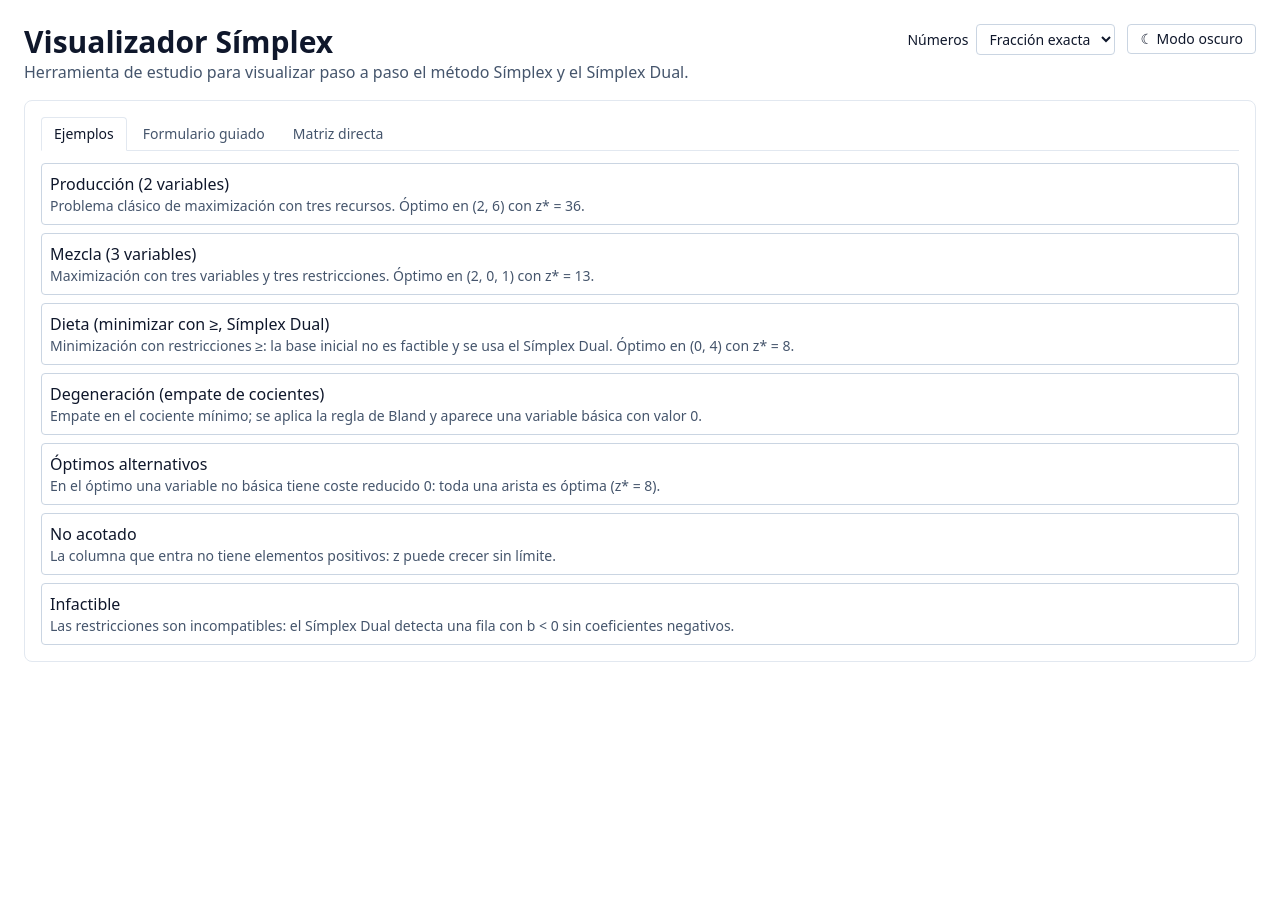
it: App › el ejemplo con ≥ usa el Símplex Dual y muestra los cocientes por columna
The image size is (1280, 900).
Click the button "Dieta" at (640, 334), box [41, 303, 1239, 365]
(page scrolled)
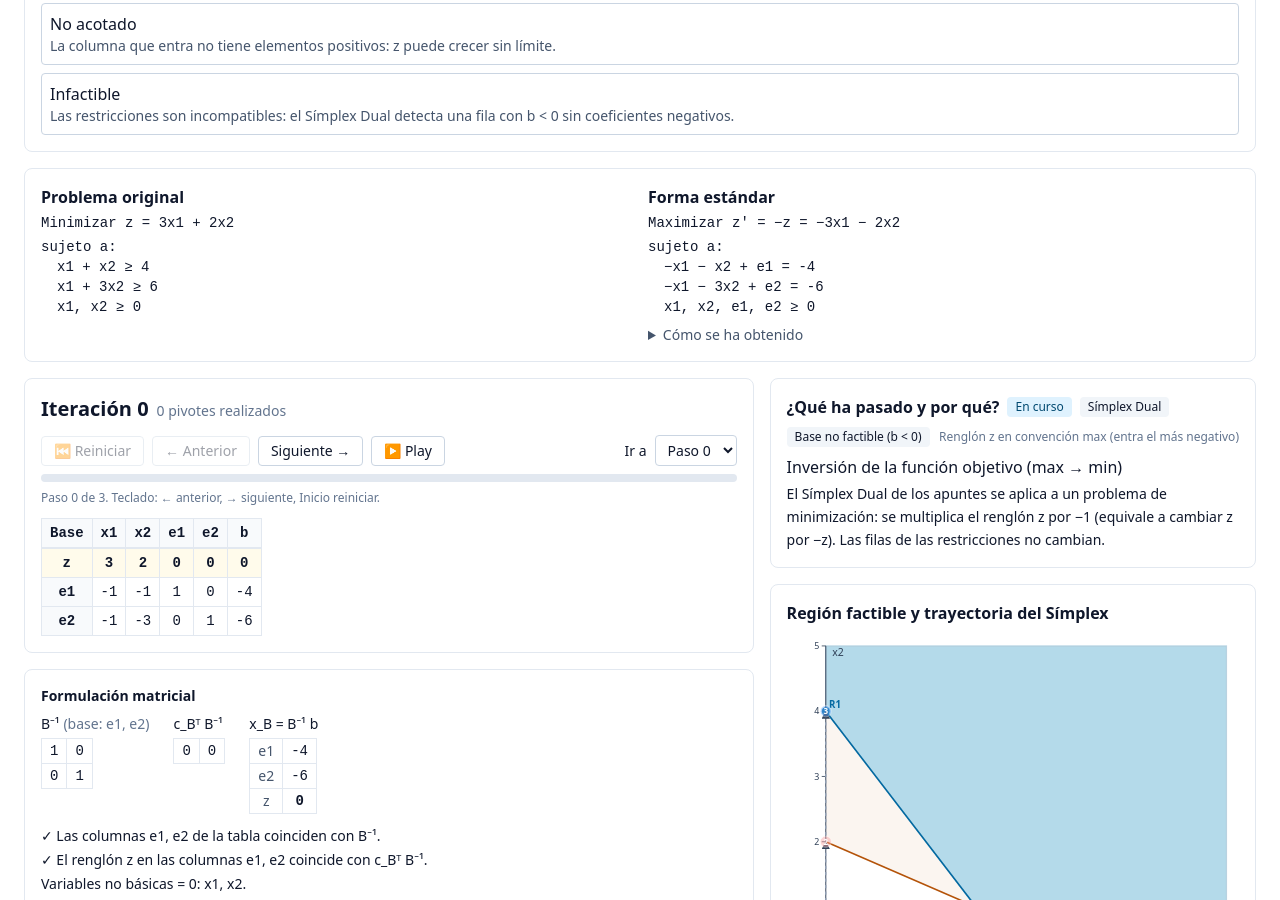
Result: the text "Símplex Dual" is shown at [1080, 397, 1169, 417]
Result: the text "Base no factible (b < 0)" is shown at [787, 427, 930, 447]
Select "Paso 1" in the dropdown labelled "Ir a" at (696, 450), box [655, 435, 737, 466]
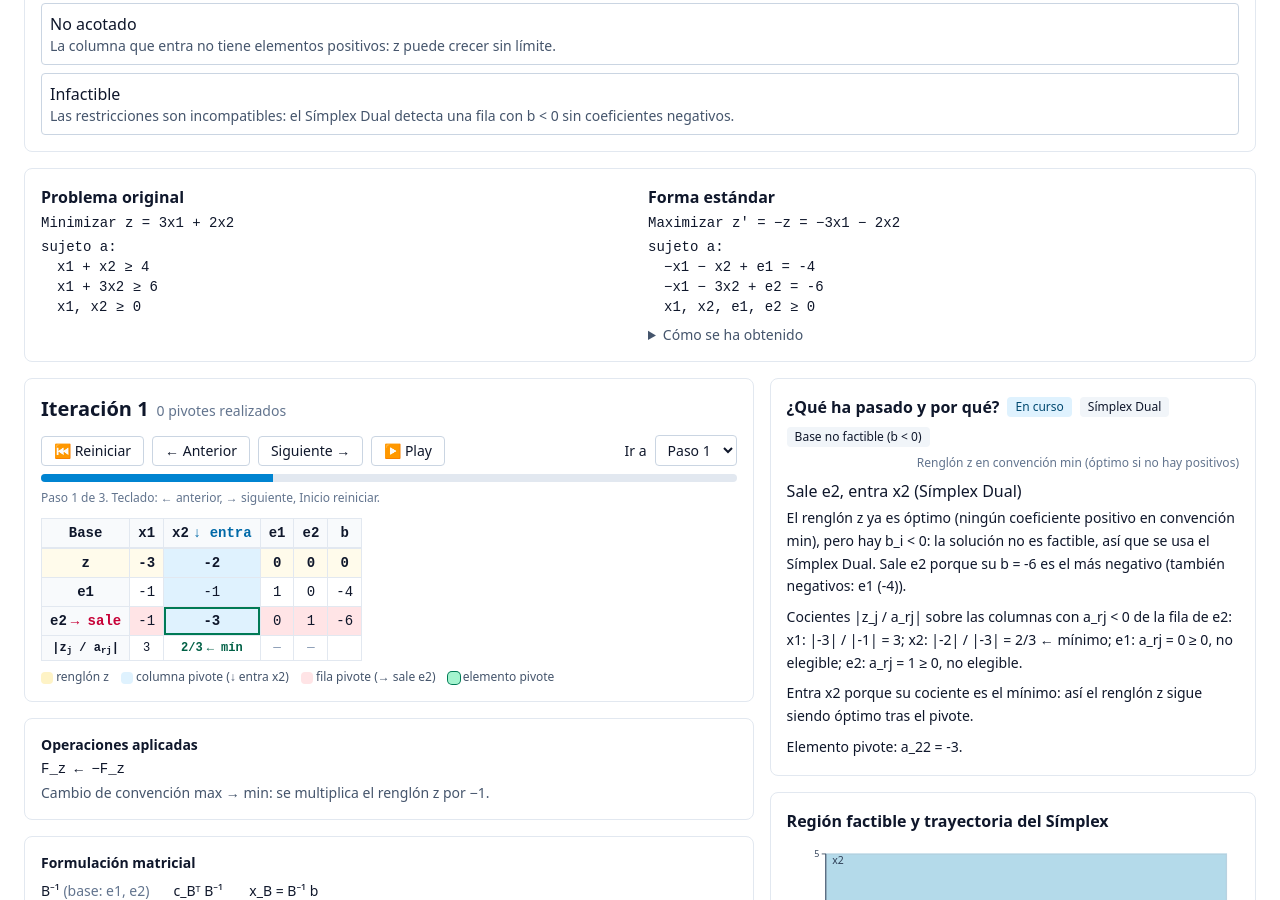
Result: the column heading "|z" is shown at [42, 636, 130, 660]
Result: the text "F_z ← −F_z" is shown at [41, 761, 125, 777]
Select "Paso 3" in the dropdown labelled "Ir a" at (696, 450), box [655, 435, 737, 466]
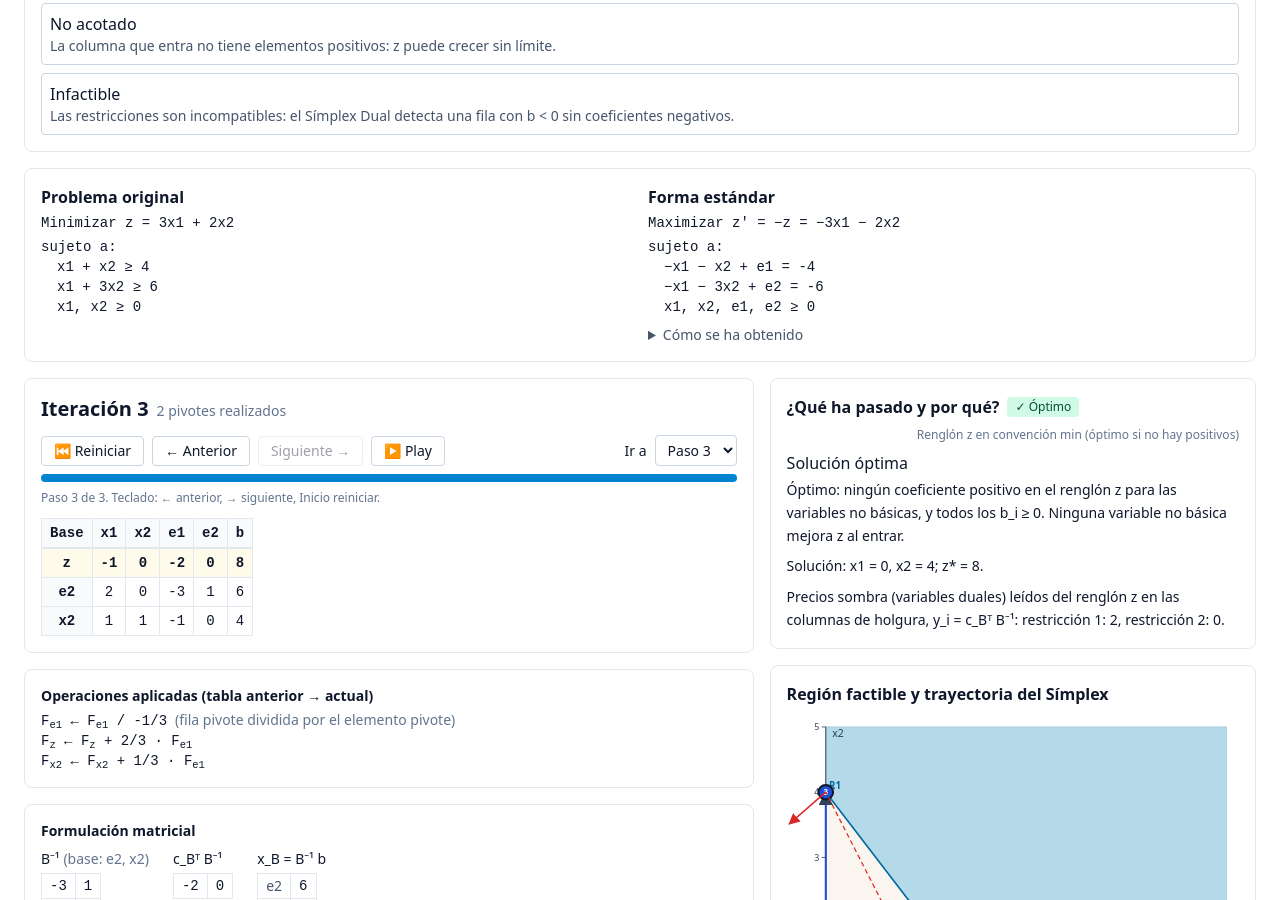
Result: the text "✓ Óptimo" is shown at [1008, 397, 1079, 417]
